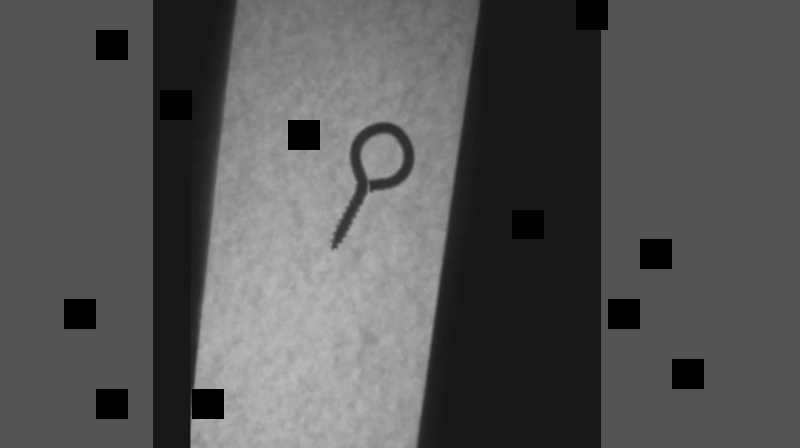O001: (327, 115, 420, 252)
